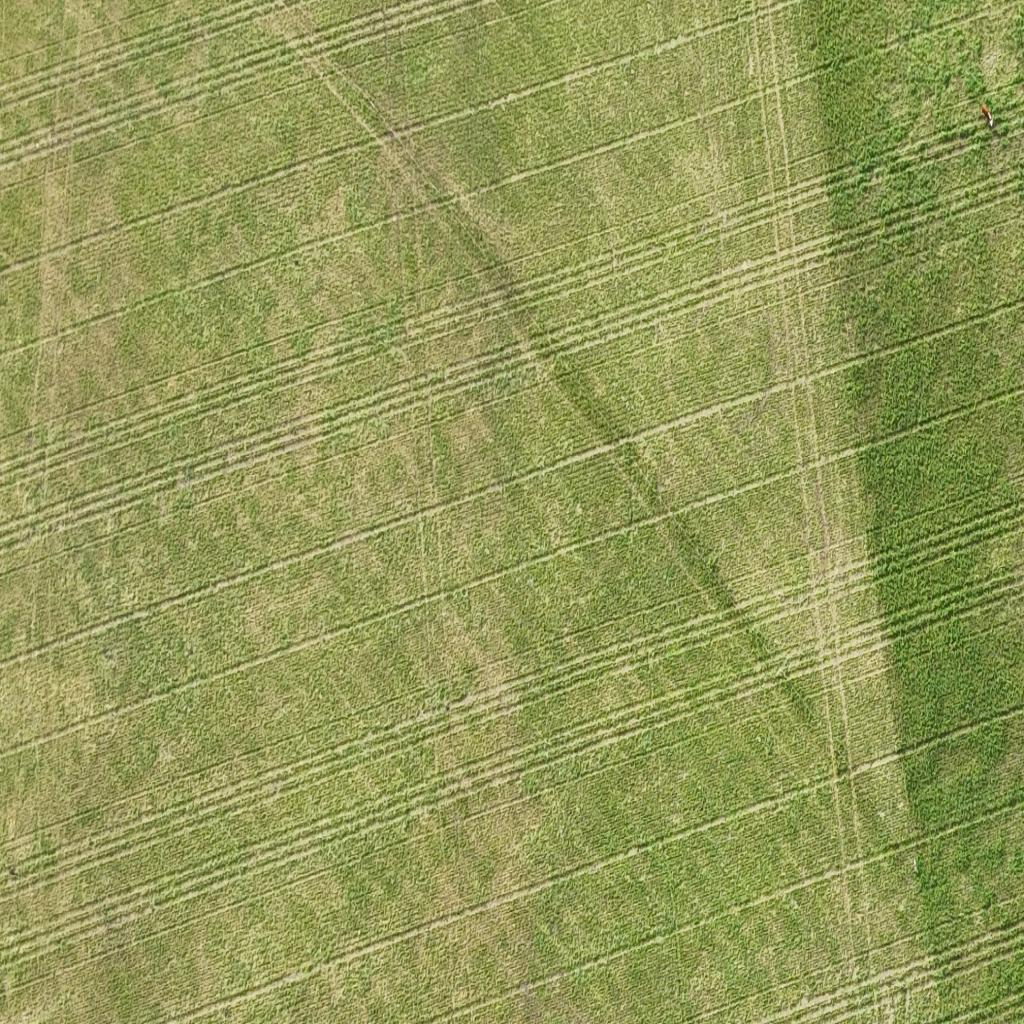cow: (978, 100, 997, 128)
